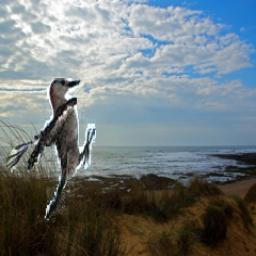Woodpecker: (2, 79, 96, 223)
